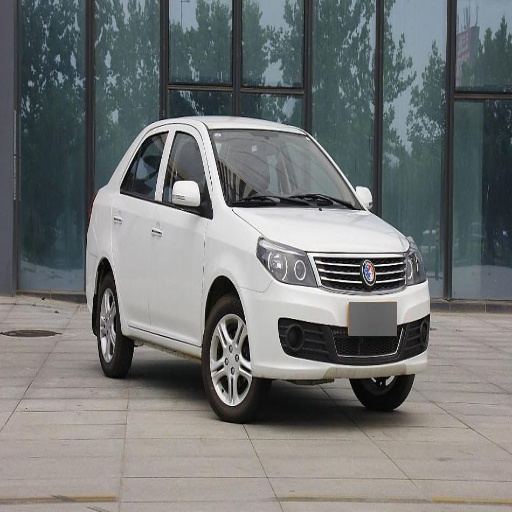front_bumper: (241, 251, 431, 378)
front_right_door: (152, 127, 212, 342)
front_right_light: (256, 238, 315, 285)
hood: (233, 208, 410, 252)
